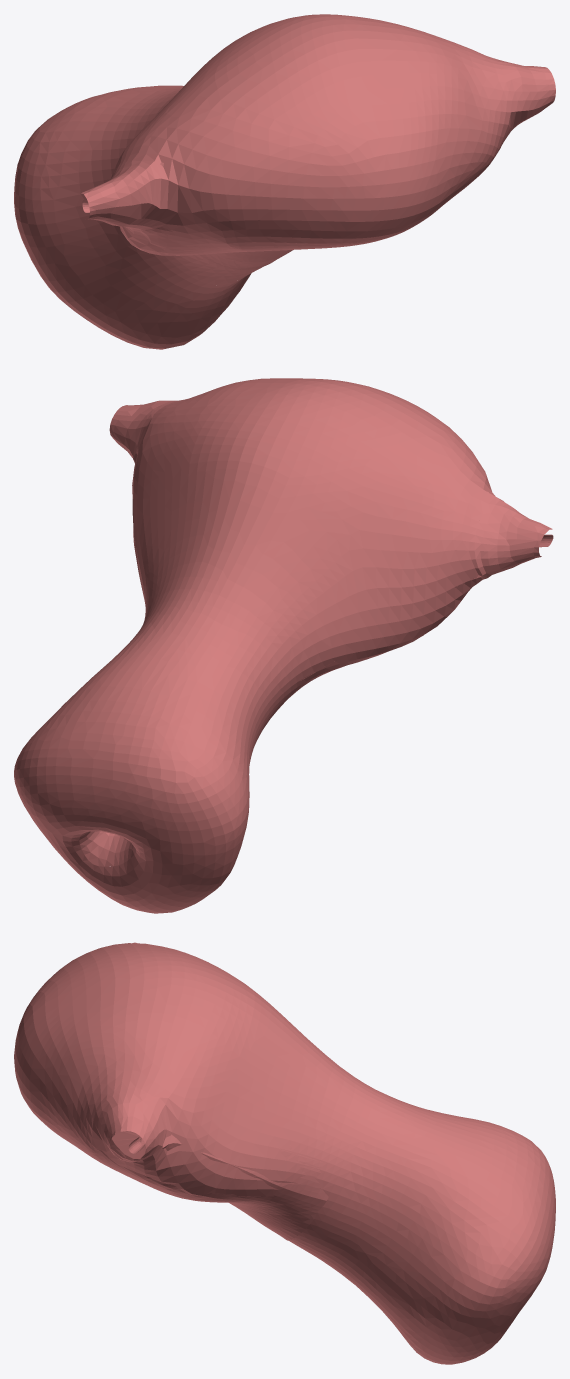
The model's file is VH_F_Uterus_0.6.glb.
3 views of the same model, one above another, from view 1: azimuth 30°, elevation 25°; view 2: azimuth 150°, elevation 25°; view 3: azimuth 270°, elevation 25° (orthographic). The views are drawn at different scales.
Parts seen in each view (by area): view 1: VH_F_fundus_of_uterus, VH_F_cervix, VH_F_cornua, VH_F_posterior_wall_of_uterus, VH_F_lower_uterine_segment, VH_F_body_of_uterus; view 2: VH_F_body_of_uterus, VH_F_cervix, VH_F_fundus_of_uterus, VH_F_lower_uterine_segment, VH_F_cornua, VH_F_external_cervical_os; view 3: VH_F_cervix, VH_F_body_of_uterus, VH_F_fundus_of_uterus, VH_F_lower_uterine_segment, VH_F_posterior_wall_of_uterus, VH_F_cornua, VH_F_anterior_wall_of_uterus.
Boxes of the visible parts, x1,y1,x2,y2 form: VH_F_fundus_of_uterus: (132,14,516,248); VH_F_cervix: (14,85,251,349); VH_F_cornua: (81,58,555,227); VH_F_posterior_wall_of_uterus: (140,147,500,269); VH_F_lower_uterine_segment: (119,87,261,284); VH_F_body_of_uterus: (114,18,511,268); VH_F_body_of_uterus: (132,421,486,694); VH_F_cervix: (14,642,261,913); VH_F_fundus_of_uterus: (142,378,495,513); VH_F_lower_uterine_segment: (124,600,296,739); VH_F_cornua: (109,400,552,578); VH_F_external_cervical_os: (79,831,136,866); VH_F_cervix: (333,1106,555,1364); VH_F_body_of_uterus: (112,963,366,1214); VH_F_fundus_of_uterus: (14,943,217,1164); VH_F_lower_uterine_segment: (289,1084,419,1267); VH_F_posterior_wall_of_uterus: (43,1122,326,1240); VH_F_cornua: (95,942,164,1165); VH_F_anterior_wall_of_uterus: (162,1134,328,1200).
Size of the model in its own units: 0.0525 by 0.047 by 0.0587.
